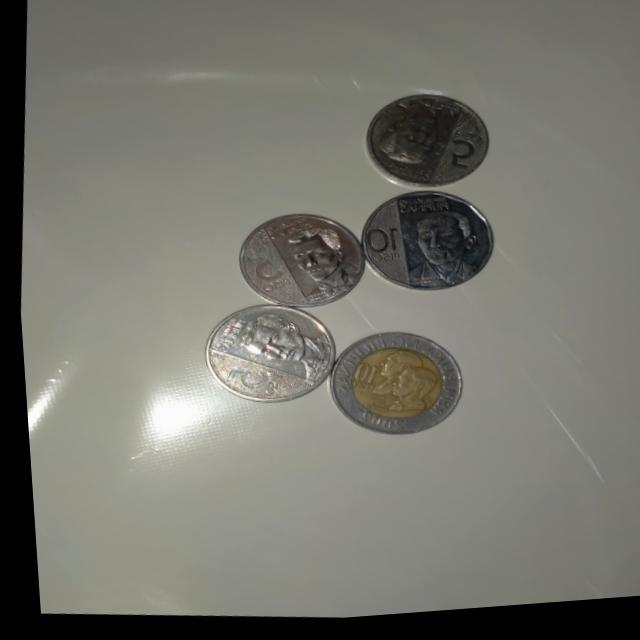10_New_Front: (354, 198, 479, 301)
10_Old_Front: (326, 333, 454, 447)
5_New_Front: (362, 102, 489, 201)
